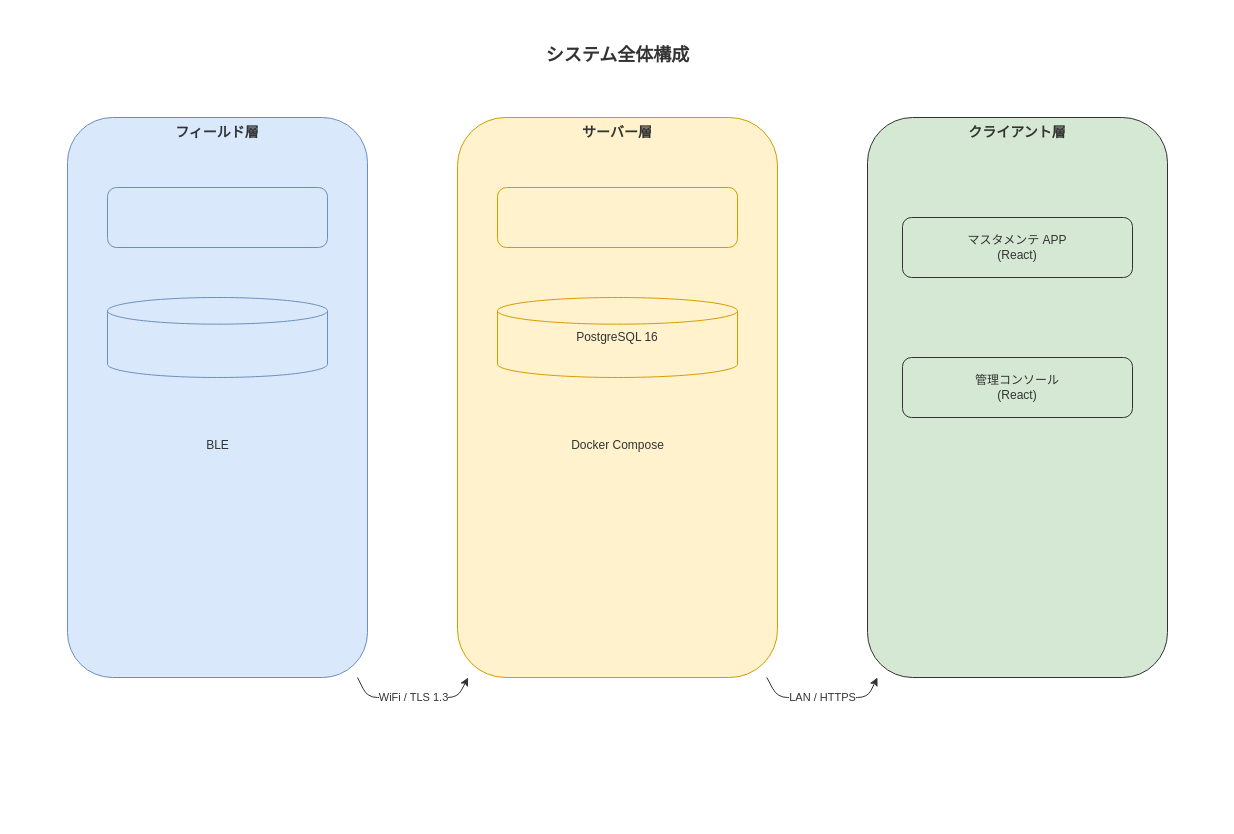
This 1234x834 diagram has some shape labels left out. The centre of each missing label's shape, as x and y in pixels:
"Rust axum API" goes at point 617,217.
"SQLite+SQLCipher" goes at point 217,337.
"ハンディ APP (React Native)" goes at point 217,217.
